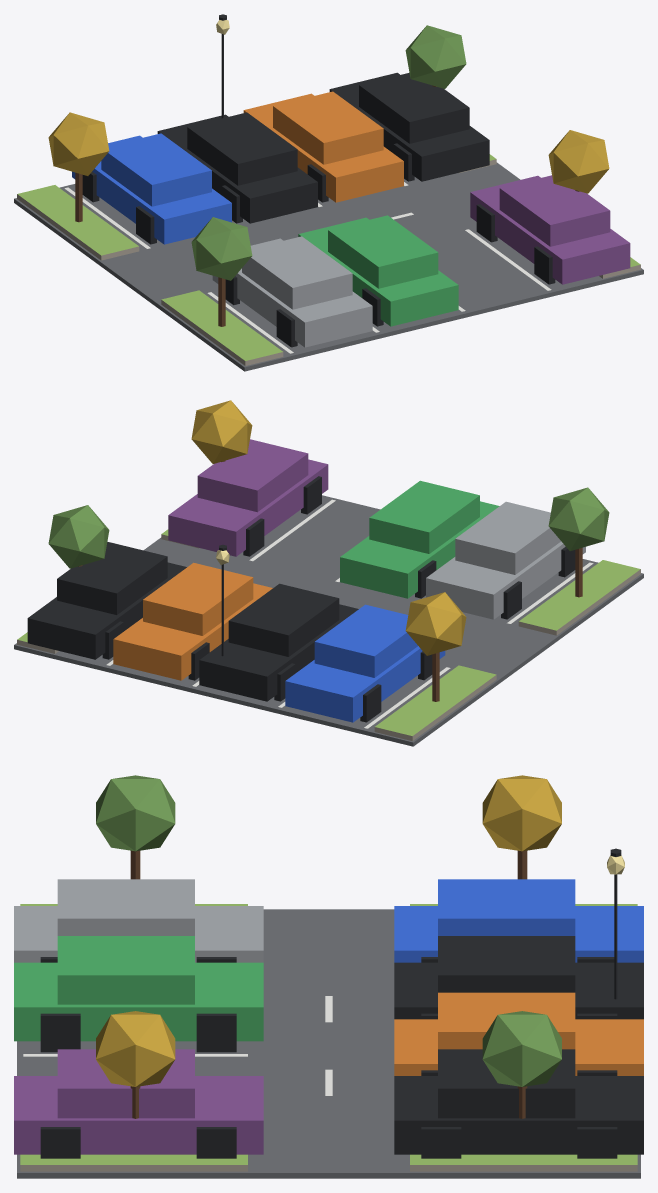
Rendered from Avlu_otopark_agacli_Hafif.fbx.
3 renders of one model, top to bottom at view 1: azimuth 30°, elevation 25°; view 2: azimuth 150°, elevation 25°; view 3: azimuth 270°, elevation 25°, orthographic. The views are drawn at different scales.
Visible parts, largest first — view 1: Avlu_otopark_agacli_Hafif; view 2: Avlu_otopark_agacli_Hafif; view 3: Avlu_otopark_agacli_Hafif.
Boxes of the visible parts, box(x1,y1,x2,y2) form: Avlu_otopark_agacli_Hafif: box(14, 14, 643, 371); Avlu_otopark_agacli_Hafif: box(14, 400, 643, 746); Avlu_otopark_agacli_Hafif: box(14, 775, 643, 1178).
Size of the model in its own units: 10.22 by 3.46 by 10.1.
